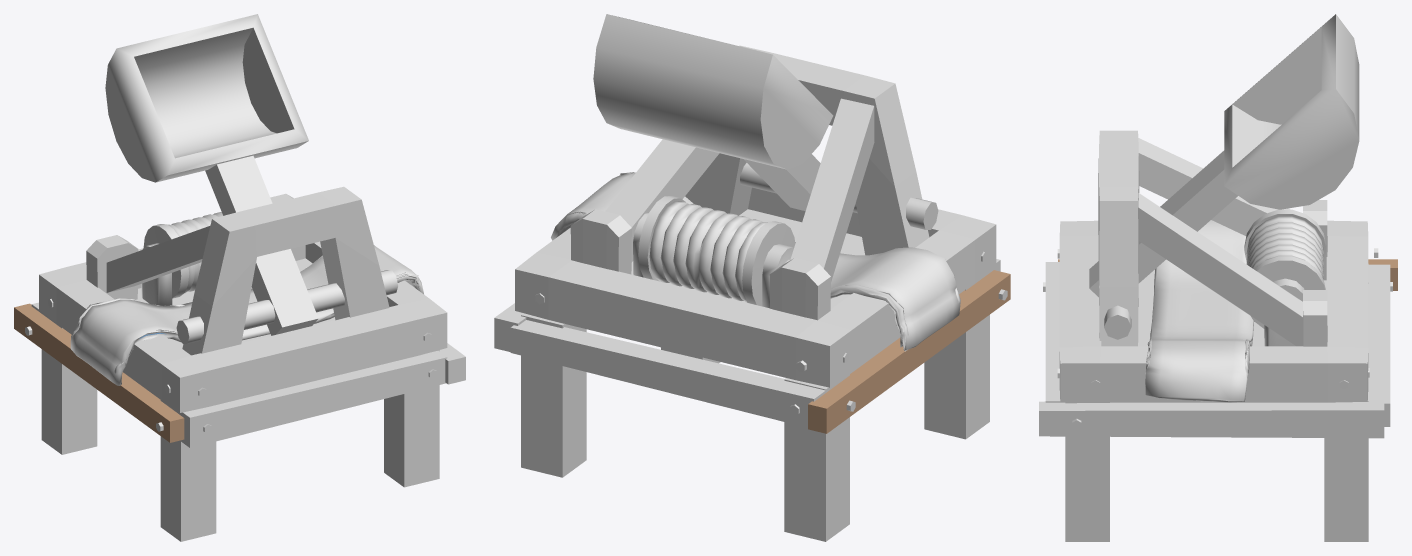
File: area tower tier 1 rotate.fbx
3 renders of one model, left to right at view 1: azimuth 30°, elevation 25°; view 2: azimuth 150°, elevation 25°; view 3: azimuth 270°, elevation 25°, orthographic. The views are drawn at different scales.
Visible parts, largest first — view 1: Cube.648, Cube.647, Cube.661; view 2: Cube.648, Cube.661, Cube.647; view 3: Cube.648, Cube.661, Cube.647.
Boxes of the visible parts, x1,y1,x2,y2 form: Cube.648: [39, 186, 447, 412]; Cube.647: [105, 14, 318, 335]; Cube.661: [14, 302, 465, 541]; Cube.648: [515, 45, 996, 387]; Cube.661: [494, 259, 1010, 541]; Cube.647: [593, 14, 833, 210]; Cube.648: [1057, 130, 1378, 402]; Cube.661: [1039, 259, 1397, 541]; Cube.647: [1089, 14, 1359, 297].
Size of what is drawn, in the model's own units: 432 by 511 by 393.
